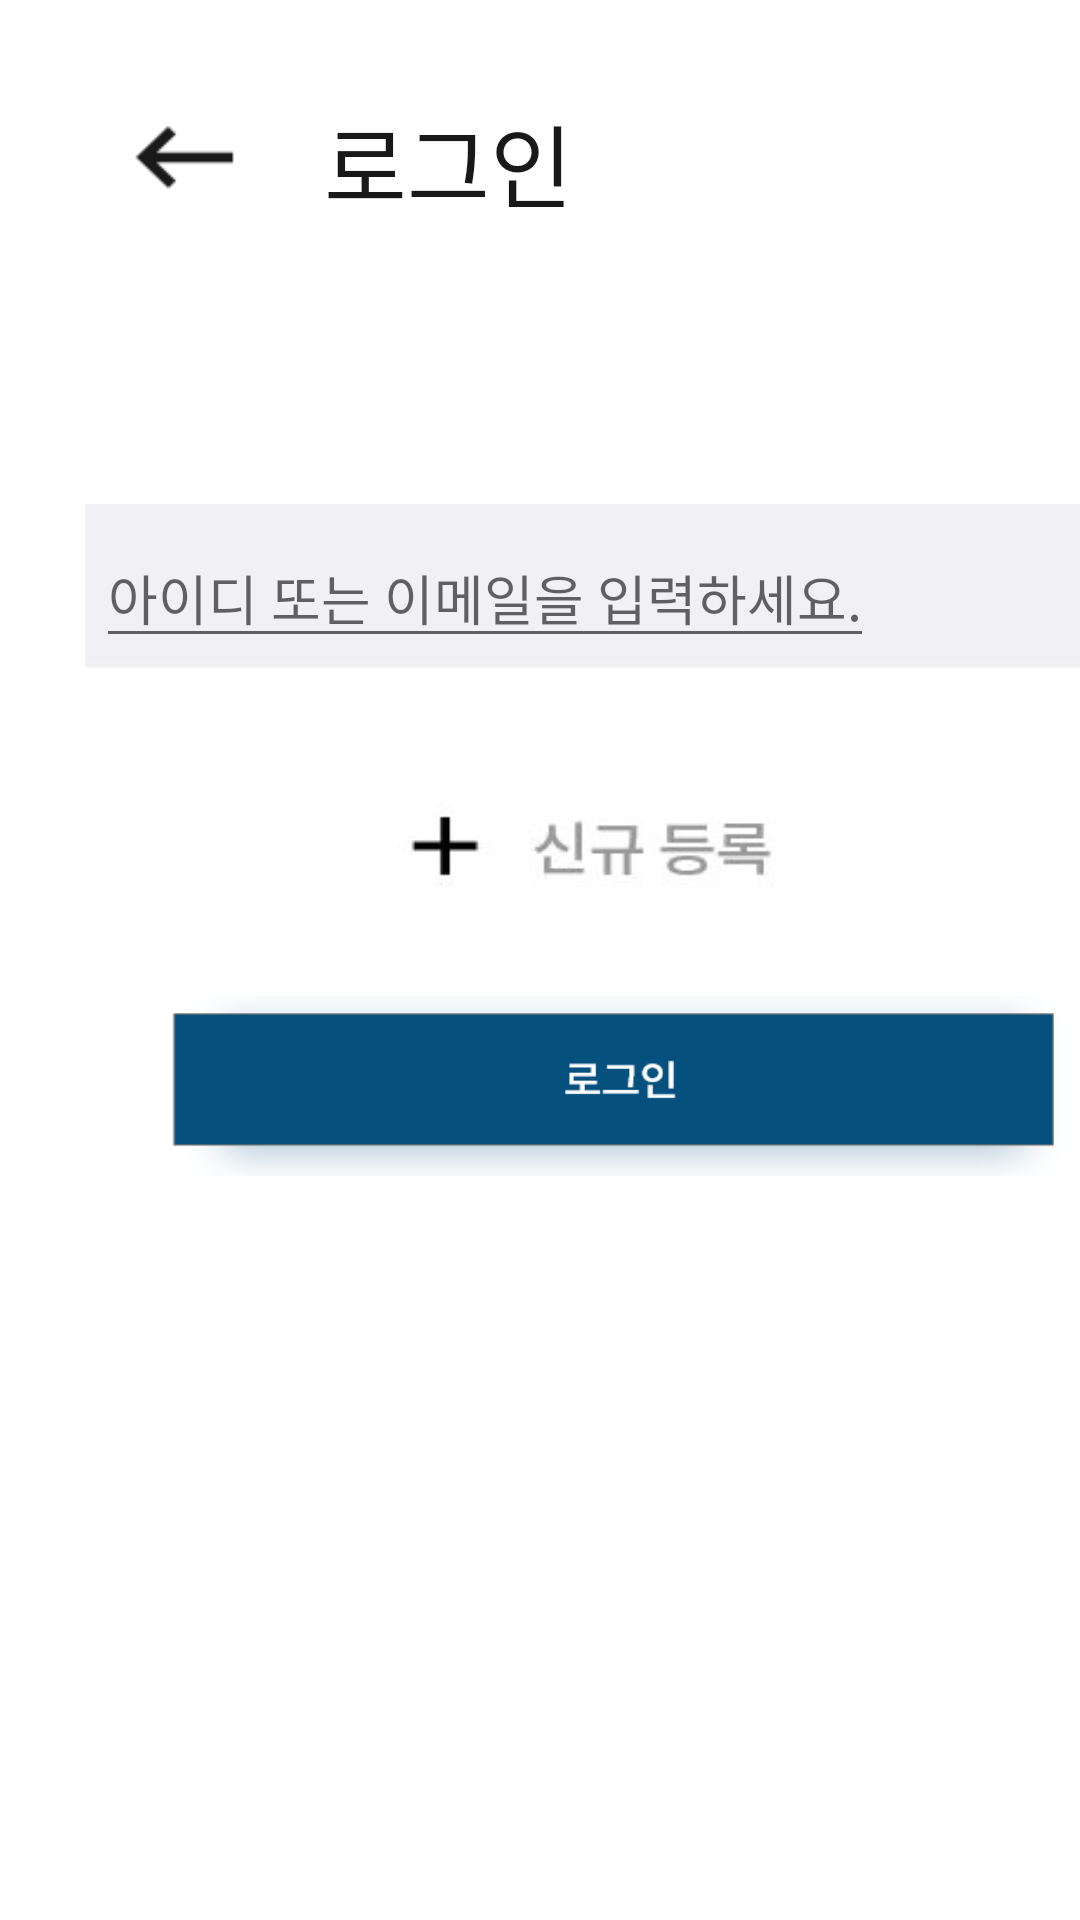

Point at icon controls on the screen. Image size 1080 x 1920, points as [x,y].
pre: [184,157]
